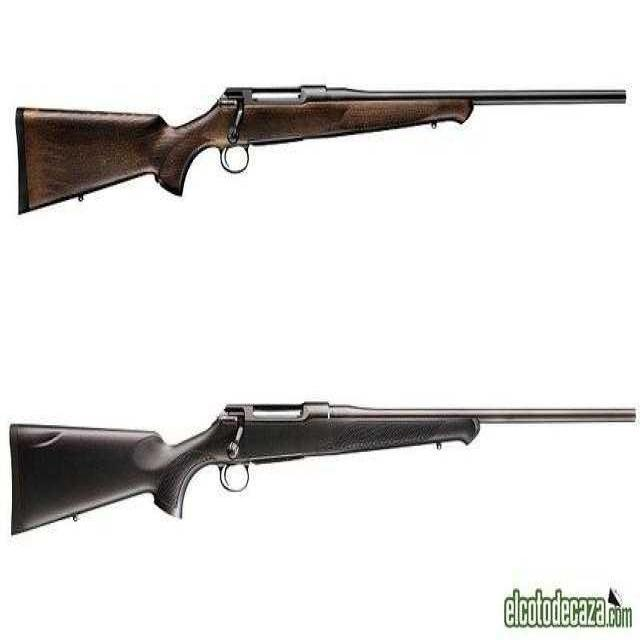Rifle: (1, 47, 629, 274), (9, 352, 640, 556)
